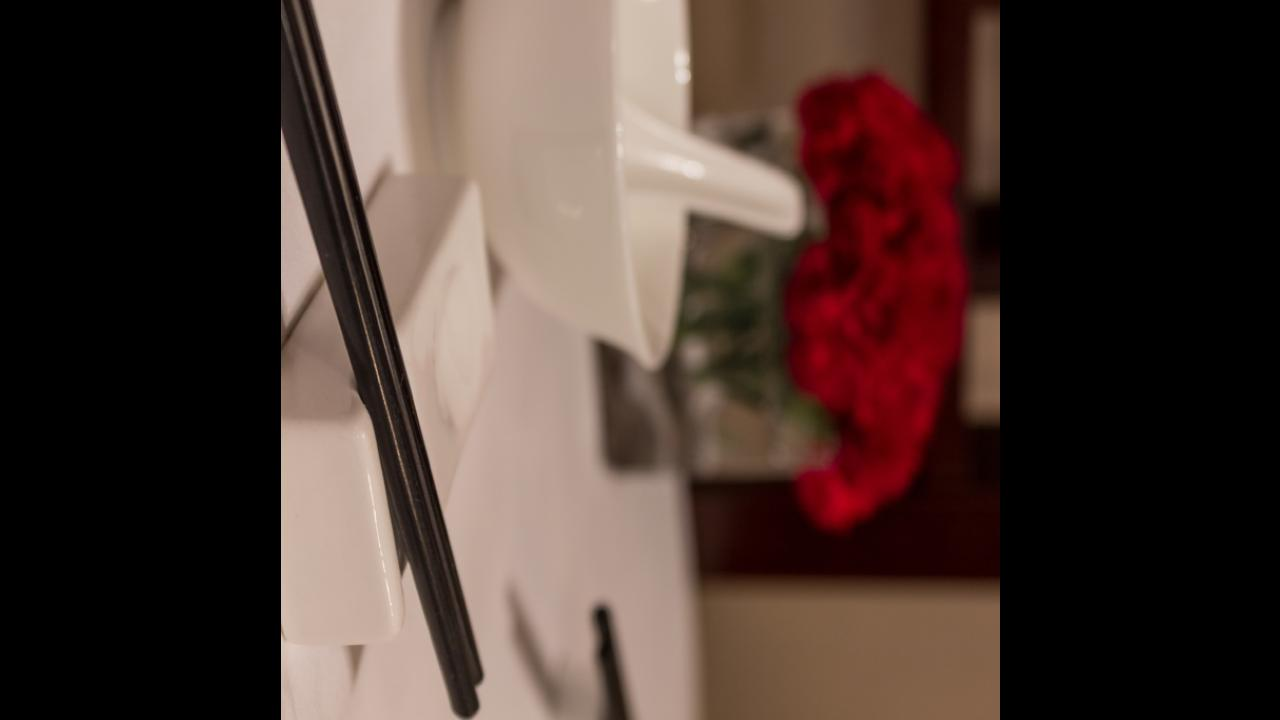chopstick: (280, 0, 484, 720), (593, 607, 666, 720)
